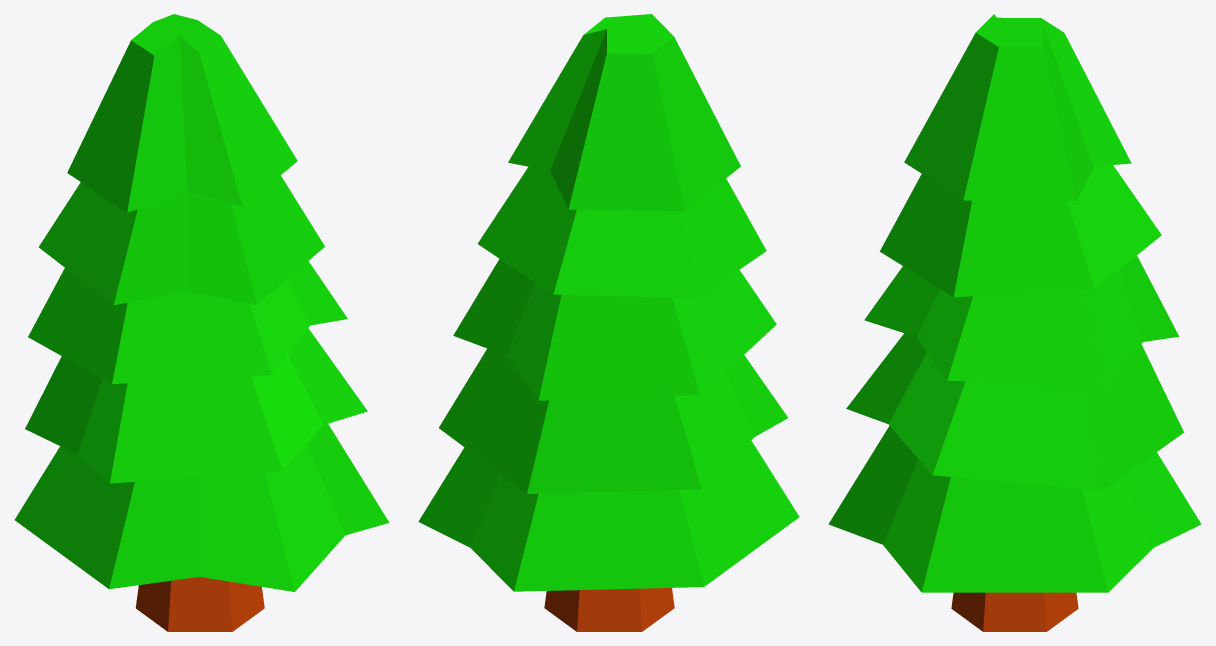
Rendered from Drzewo23v1.fbx.
The picture shows the model from 3 angles, left to right: view 1: azimuth 30°, elevation 25°; view 2: azimuth 150°, elevation 25°; view 3: azimuth 270°, elevation 25°; orthographic projection. The views are drawn at different scales.
Parts seen in each view (by area): view 1: Walec.001, Walec.002, Walec.005, Walec.004, Walec.003, Walec; view 2: Walec.001, Walec.002, Walec.005, Walec.003, Walec.004, Walec; view 3: Walec.001, Walec.002, Walec.005, Walec.003, Walec.004, Walec.
Part boxes in pixels (x1=…): Walec.001: x1=14, y1=424, x2=389, y2=591; Walec.002: x1=25, y1=328, x2=367, y2=483; Walec.005: x1=67, y1=14, x2=297, y2=212; Walec.004: x1=39, y1=175, x2=324, y2=305; Walec.003: x1=28, y1=261, x2=347, y2=384; Walec: x1=135, y1=577, x2=264, y2=631; Walec.001: x1=418, y1=440, x2=799, y2=591; Walec.002: x1=439, y1=348, x2=787, y2=493; Walec.005: x1=508, y1=14, x2=740, y2=211; Walec.003: x1=453, y1=259, x2=776, y2=400; Walec.004: x1=477, y1=166, x2=766, y2=297; Walec: x1=544, y1=588, x2=674, y2=631; Walec.001: x1=828, y1=426, x2=1201, y2=592; Walec.002: x1=846, y1=333, x2=1183, y2=490; Walec.005: x1=904, y1=14, x2=1131, y2=200; Walec.003: x1=864, y1=255, x2=1178, y2=388; Walec.004: x1=880, y1=165, x2=1161, y2=297; Walec: x1=951, y1=592, x2=1078, y2=631.
Bounding box in the file's own units: 316 × 631 × 368.
